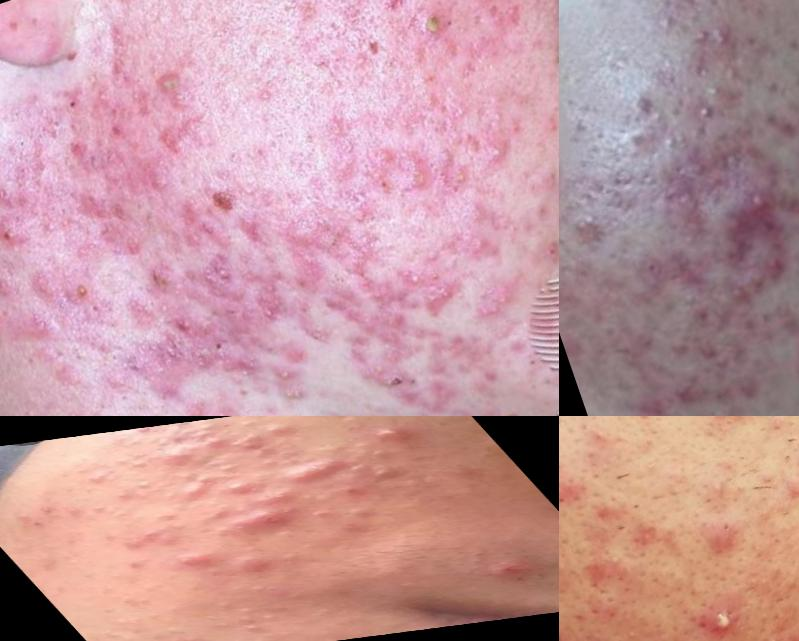folliculitis: (694, 517, 750, 566), (622, 417, 669, 435), (715, 417, 762, 432)
papular: (706, 164, 799, 257), (626, 234, 712, 304), (597, 313, 670, 373), (700, 360, 774, 417), (731, 238, 798, 300), (645, 359, 714, 417), (561, 195, 621, 256), (671, 283, 724, 337), (456, 556, 548, 587), (615, 386, 686, 417), (212, 480, 281, 505), (216, 557, 274, 580), (782, 147, 799, 213), (173, 552, 218, 574), (781, 343, 799, 389)
purulent: (133, 58, 191, 111), (406, 2, 451, 56), (698, 598, 748, 641), (1, 218, 33, 268), (367, 424, 425, 446), (755, 628, 790, 641)
sebo-crystan-conglo: (189, 244, 246, 304), (176, 304, 243, 355), (177, 341, 239, 390), (404, 278, 459, 326), (131, 263, 183, 309), (209, 508, 298, 533), (399, 156, 443, 205), (445, 231, 493, 272), (472, 286, 520, 326), (246, 277, 286, 322), (277, 465, 346, 487)
whitehead: (645, 128, 697, 168), (685, 99, 729, 132), (694, 72, 729, 109), (264, 547, 317, 568), (120, 478, 169, 498), (583, 424, 616, 453), (355, 447, 406, 465), (150, 445, 200, 463), (179, 421, 229, 438), (687, 21, 717, 49), (305, 504, 345, 525), (204, 462, 252, 477), (650, 14, 674, 39), (232, 417, 272, 431), (238, 632, 291, 641), (227, 624, 268, 635), (215, 615, 255, 626), (350, 505, 377, 519), (224, 606, 256, 616)
